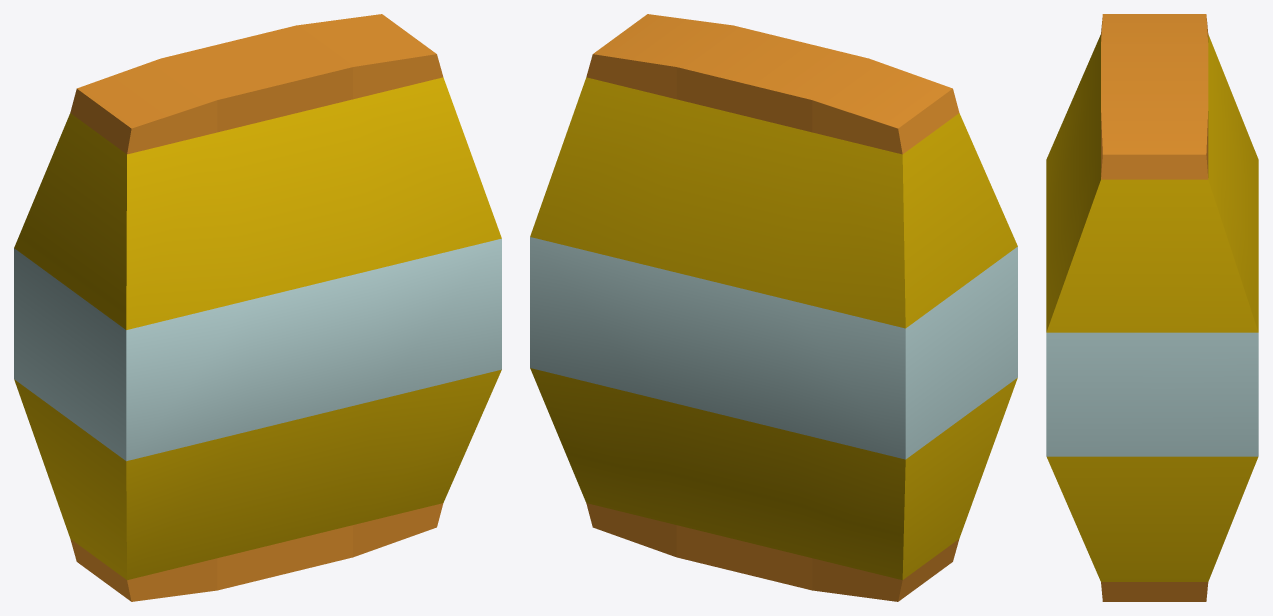
Rendered from Papitas.fbx.
The picture shows the model from 3 angles, left to right: view 1: azimuth 30°, elevation 25°; view 2: azimuth 150°, elevation 25°; view 3: azimuth 270°, elevation 25°; orthographic projection. The views are drawn at different scales.
Visible parts, largest first — view 1: pCube2; view 2: pCube2; view 3: pCube2.
Boxes of the visible parts, x1=… form: pCube2: x1=14, y1=14, x2=501, y2=601; pCube2: x1=530, y1=14, x2=1017, y2=601; pCube2: x1=1046, y1=14, x2=1258, y2=601.
Size of the model in its own units: 6.85 by 8.54 by 3.54.
